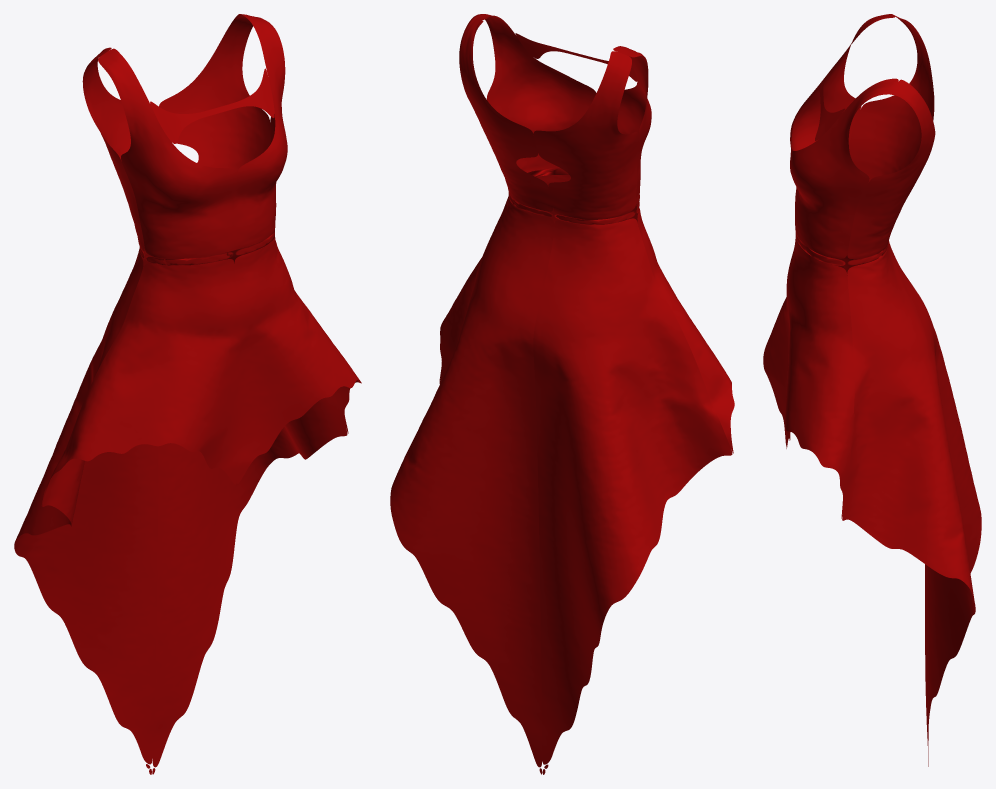
File: red_dress.glb
3 renders of one model, left to right at view 1: azimuth 30°, elevation 25°; view 2: azimuth 150°, elevation 25°; view 3: azimuth 270°, elevation 25°, orthographic. The views are drawn at different scales.
Visible parts, largest first — view 1: red_dress; view 2: red_dress; view 3: red_dress.
Part boxes in pixels (left/top/right/bottom): red_dress: left=14, top=14, right=361, bottom=774; red_dress: left=390, top=14, right=734, bottom=774; red_dress: left=763, top=14, right=981, bottom=766.
Bounding box in the file's own units: 0.6416 × 1.49 × 0.4033.
